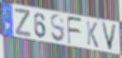6: (33, 13, 47, 39)
F: (66, 16, 83, 46)
K: (85, 20, 99, 50)
S: (50, 14, 66, 44)
V: (101, 22, 119, 52)
Z: (14, 8, 32, 39)
